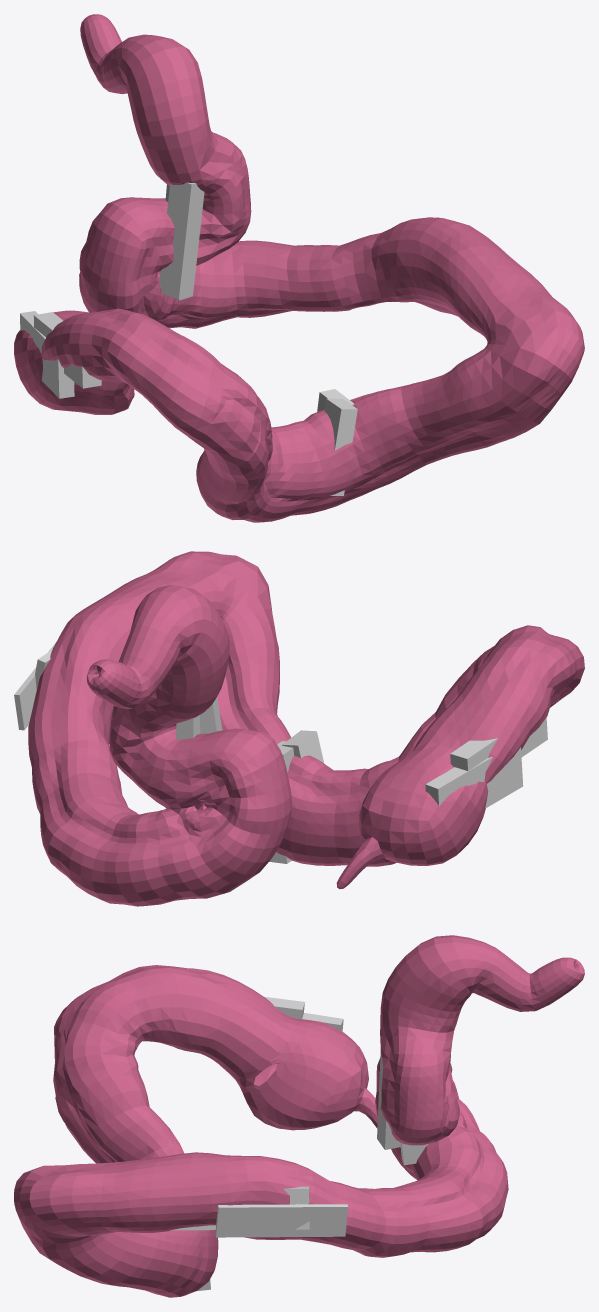
The model's file is non_hra_mapping.glb.
3 views of the same model, one above another, from view 1: azimuth 30°, elevation 25°; view 2: azimuth 150°, elevation 25°; view 3: azimuth 270°, elevation 25° (orthographic). The views are drawn at different scales.
Visible parts, largest first — view 1: world; view 2: world; view 3: world.
Boxes of the visible parts, x1,y1,x2,y2 form: world: (14, 14, 584, 522); world: (14, 551, 584, 906); world: (14, 935, 584, 1297).
Size of the model in its own units: 246 by 193 by 295.
